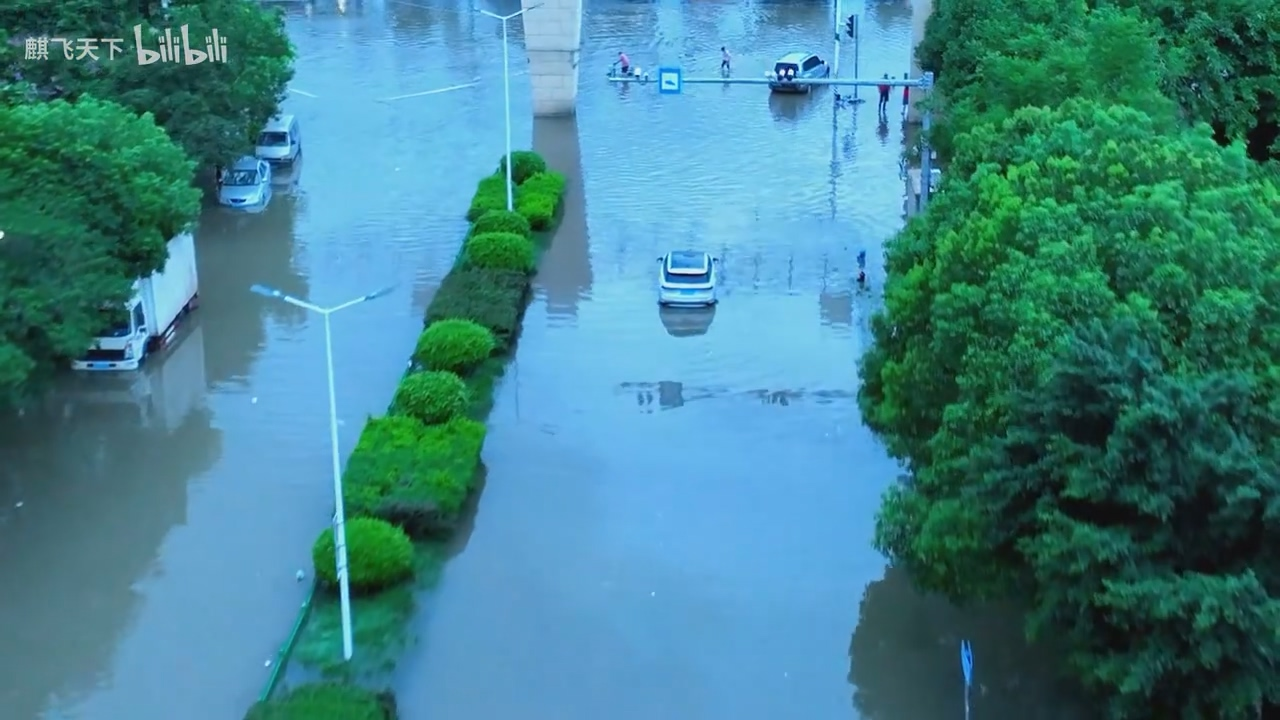puddle: (209, 112, 905, 720)
